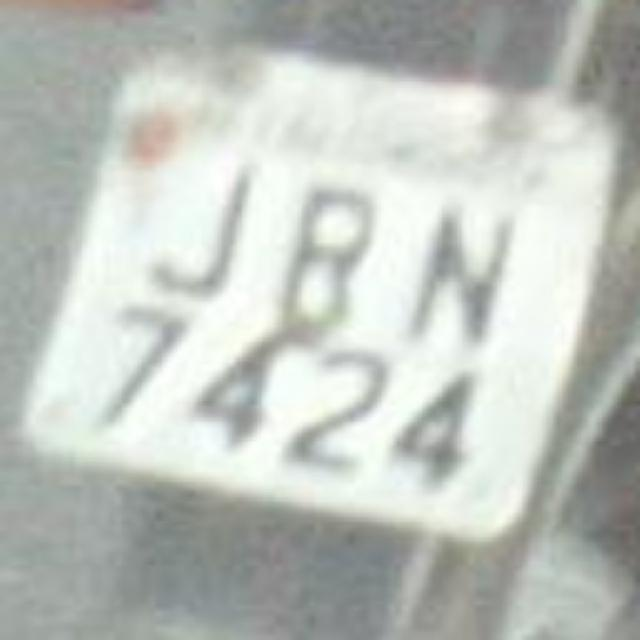2: (260, 328, 408, 484)
4: (180, 304, 300, 471), (385, 344, 480, 496)
7: (64, 296, 208, 449)
B: (260, 164, 388, 348)
J: (128, 140, 264, 312)
N: (384, 172, 531, 360)
